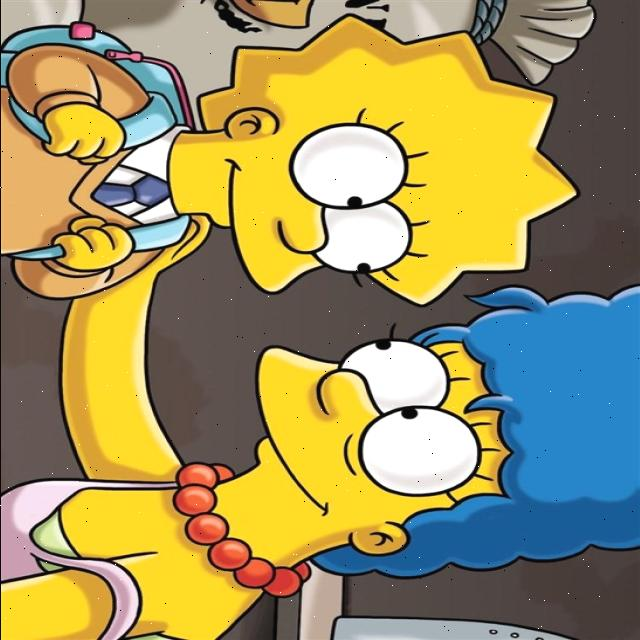Lisa Simpson: (162, 10, 584, 312)
Marge Simpson: (166, 282, 640, 600)
